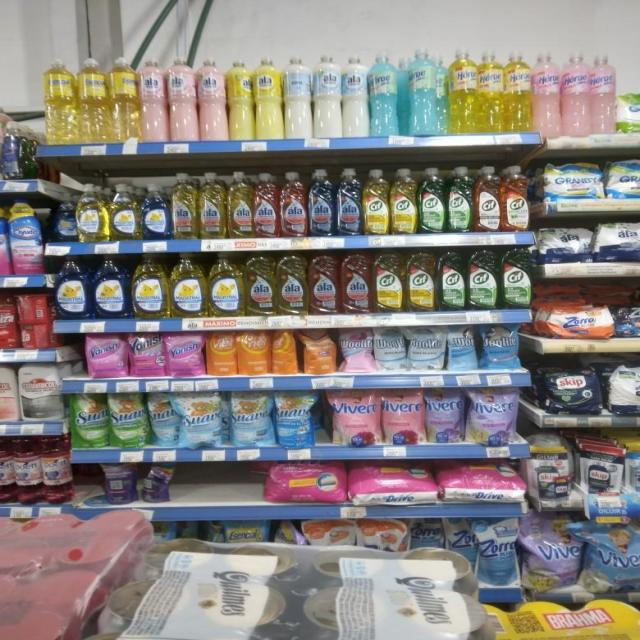ala_conc_amarillo: (244, 252, 276, 316), (277, 252, 307, 316), (199, 171, 226, 239), (171, 172, 197, 240), (228, 170, 253, 239)
ala_conc_azul: (335, 167, 362, 236), (308, 168, 334, 237)
ala_conc_rojo: (341, 252, 372, 314), (309, 252, 339, 315), (280, 171, 307, 238), (254, 172, 279, 238)
ala_crem_amarillo: (255, 56, 282, 140), (228, 58, 254, 140)
ala_crem_blanco: (314, 55, 342, 138), (343, 54, 368, 137)
ala_crem_rosado: (198, 58, 227, 141), (169, 58, 197, 142)
cif_conc_bot_amarilla: (405, 250, 436, 313), (374, 250, 403, 314), (390, 168, 417, 235), (363, 168, 389, 236)
cif_conc_botella_roja: (502, 165, 530, 232), (474, 165, 501, 232)
cif_conc_botella_verde: (468, 248, 499, 310), (501, 246, 531, 310), (418, 167, 445, 234), (447, 166, 473, 233), (438, 250, 466, 312)
heroe: (140, 57, 168, 143), (562, 52, 590, 136), (534, 51, 560, 137), (590, 52, 616, 134)
magistral_con_amarillo: (170, 252, 207, 318), (132, 253, 168, 319), (208, 252, 243, 318), (109, 182, 140, 241), (77, 183, 108, 242)
magistral_con_azul: (92, 254, 130, 319), (56, 254, 91, 320), (142, 183, 170, 240), (53, 197, 76, 242)
